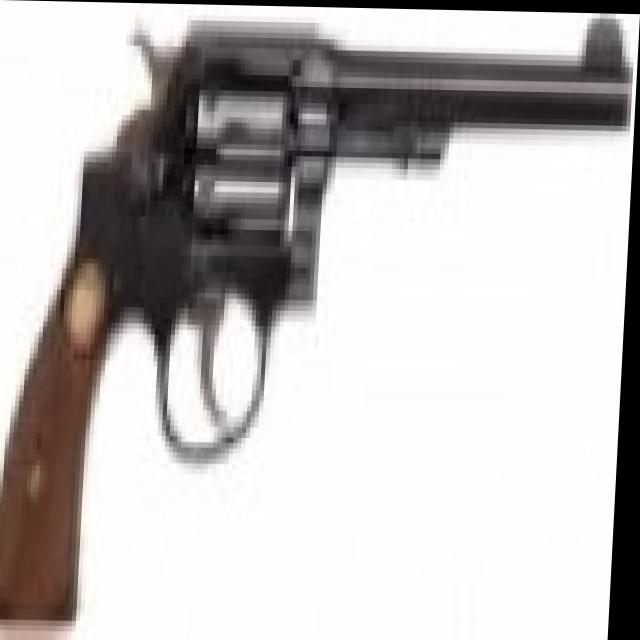handgun: (0, 0, 636, 635)
